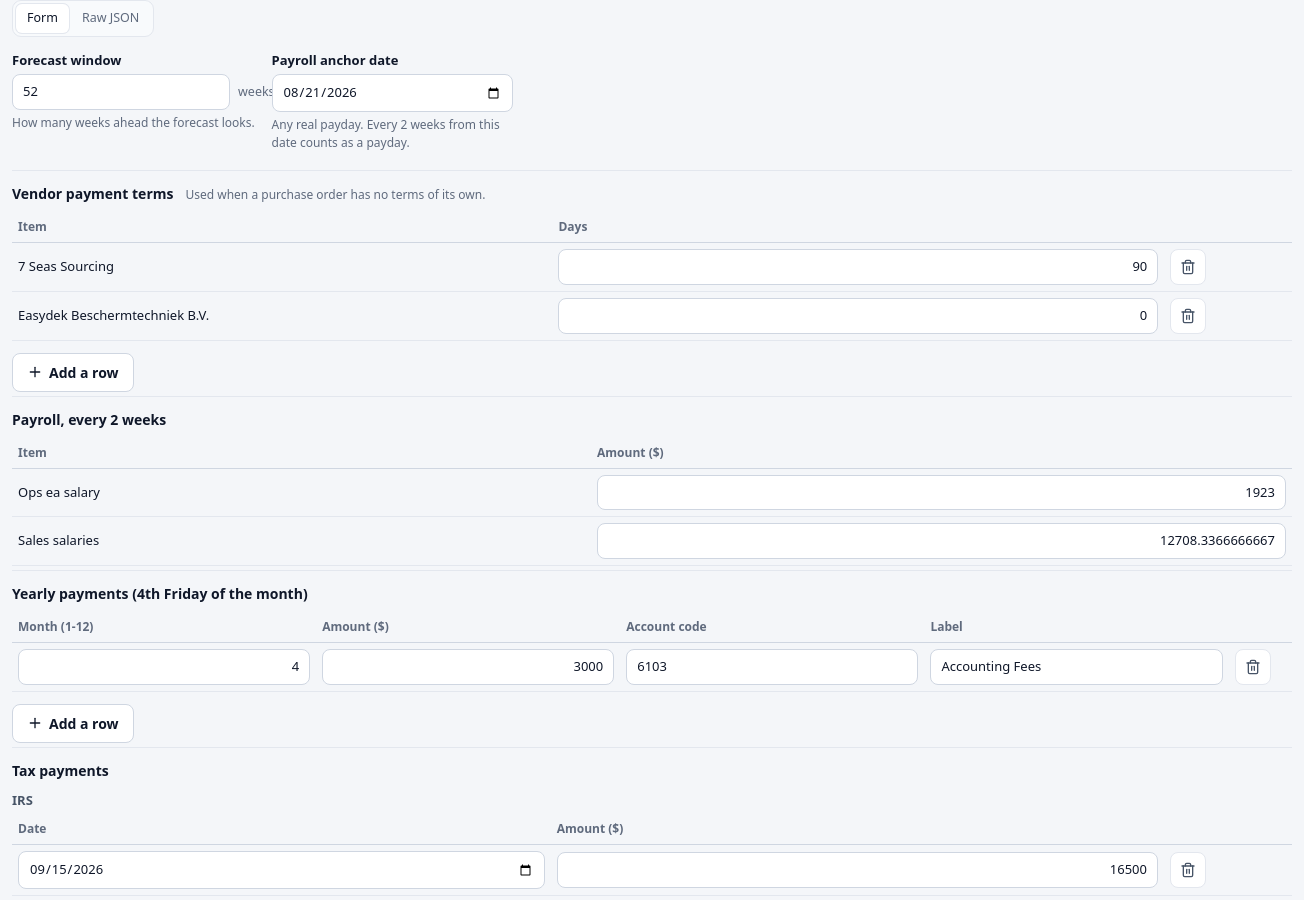
Test case: ConfigForm › switches to Raw JSON and back without changing the data
What coordinates should you click on to do the following:
click the button "Raw JSON"
I would click on:
 (111, 18)
Its box is [71,4,150,33].
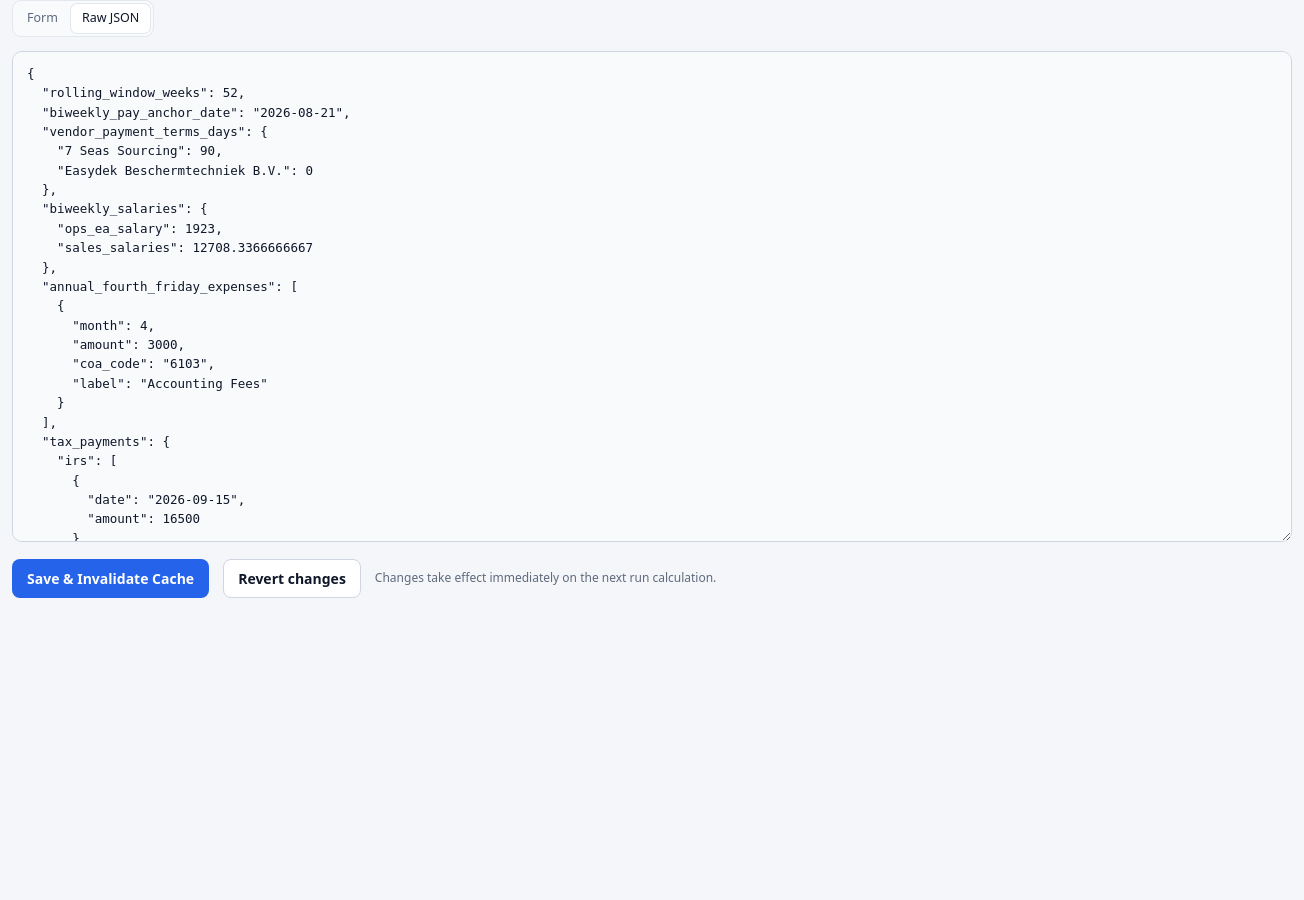
What coordinates should you click on to do the following:
click the button "Form"
I would click on:
 (42, 18)
Its box is [16,4,69,33].
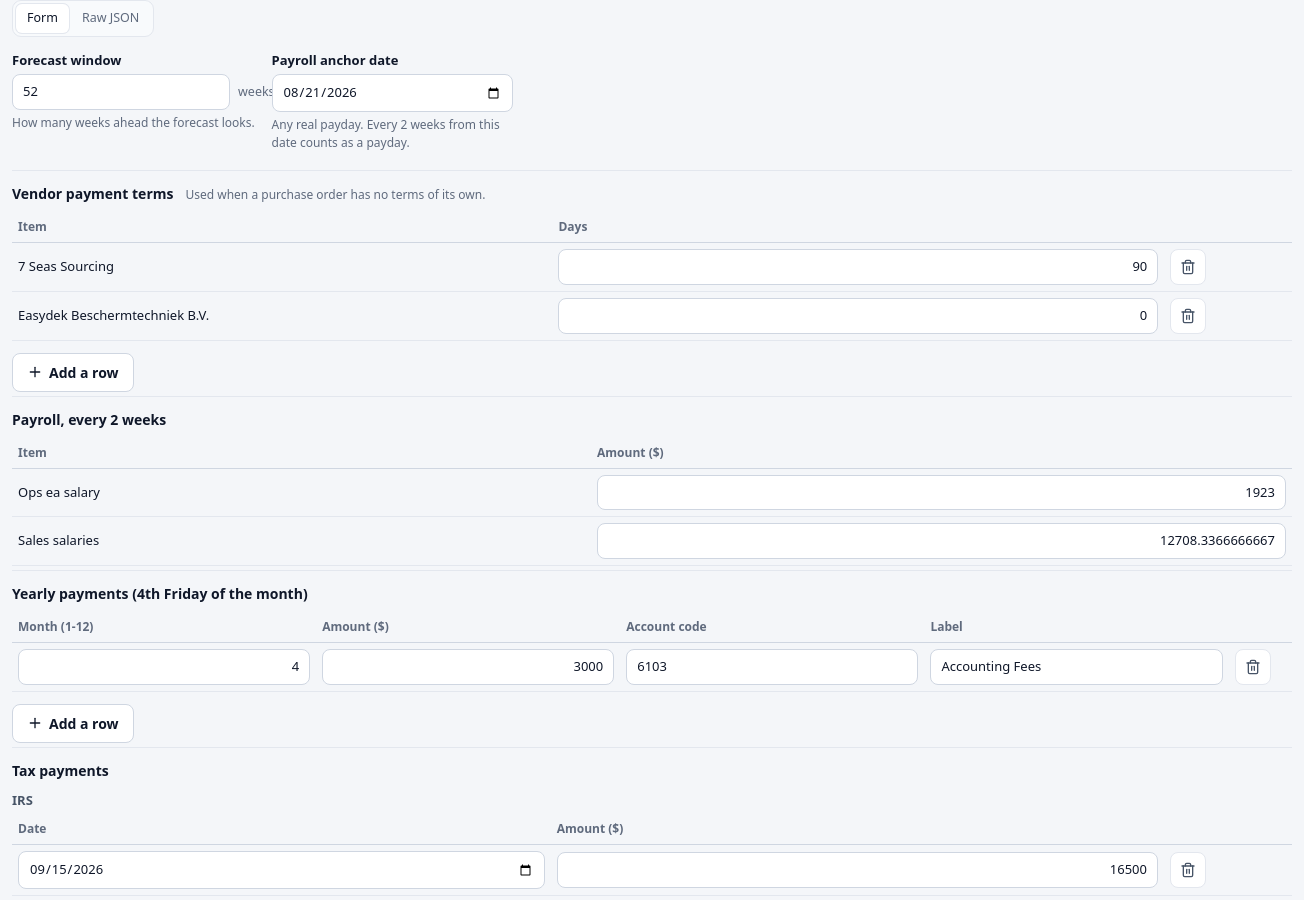
expect the field labelled "Forecast window" holds "52": met, box [12,74,230,110]
